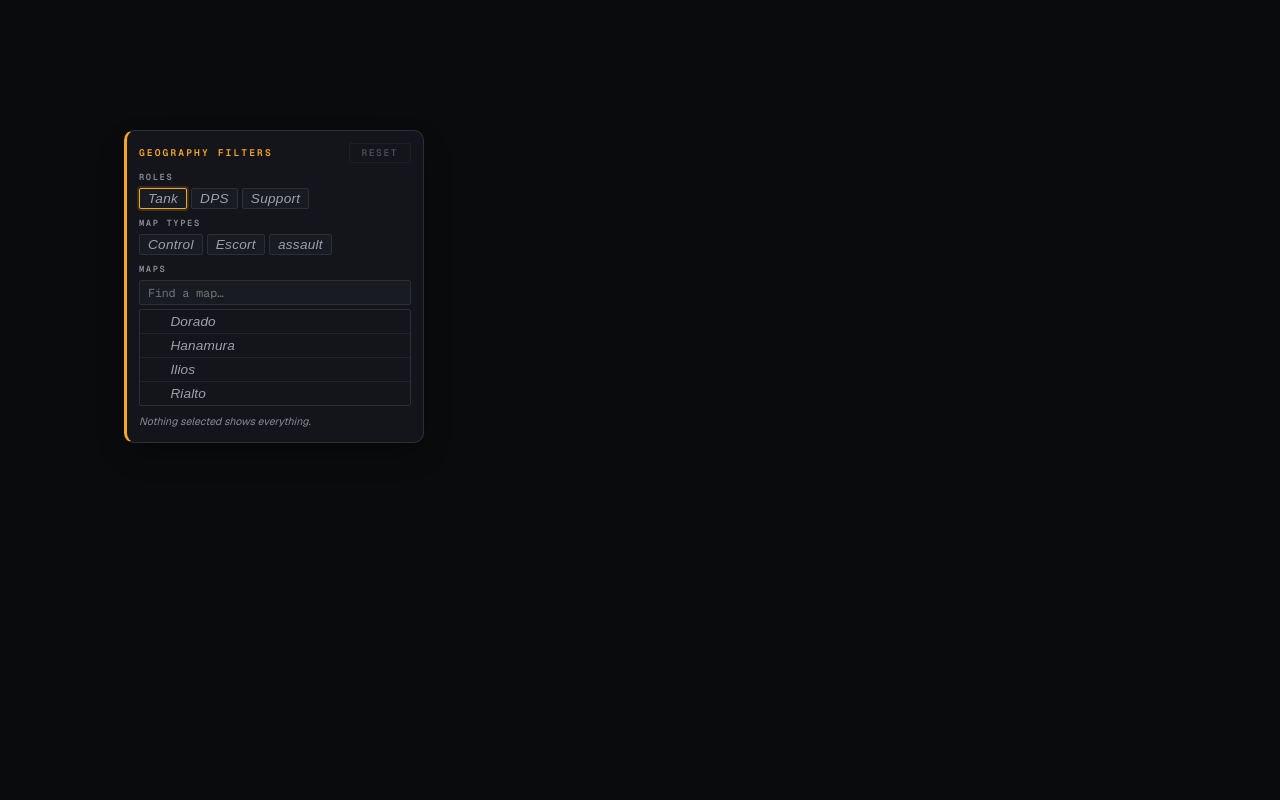
Test: MapRoleConfigPopover › keeps Reset disabled at default and clears all three groups when used
Expected: the button "Reset" is disabled, [348,143,411,163]
Click the button "Tank".
click(163, 198)  # box [139,188,187,209]
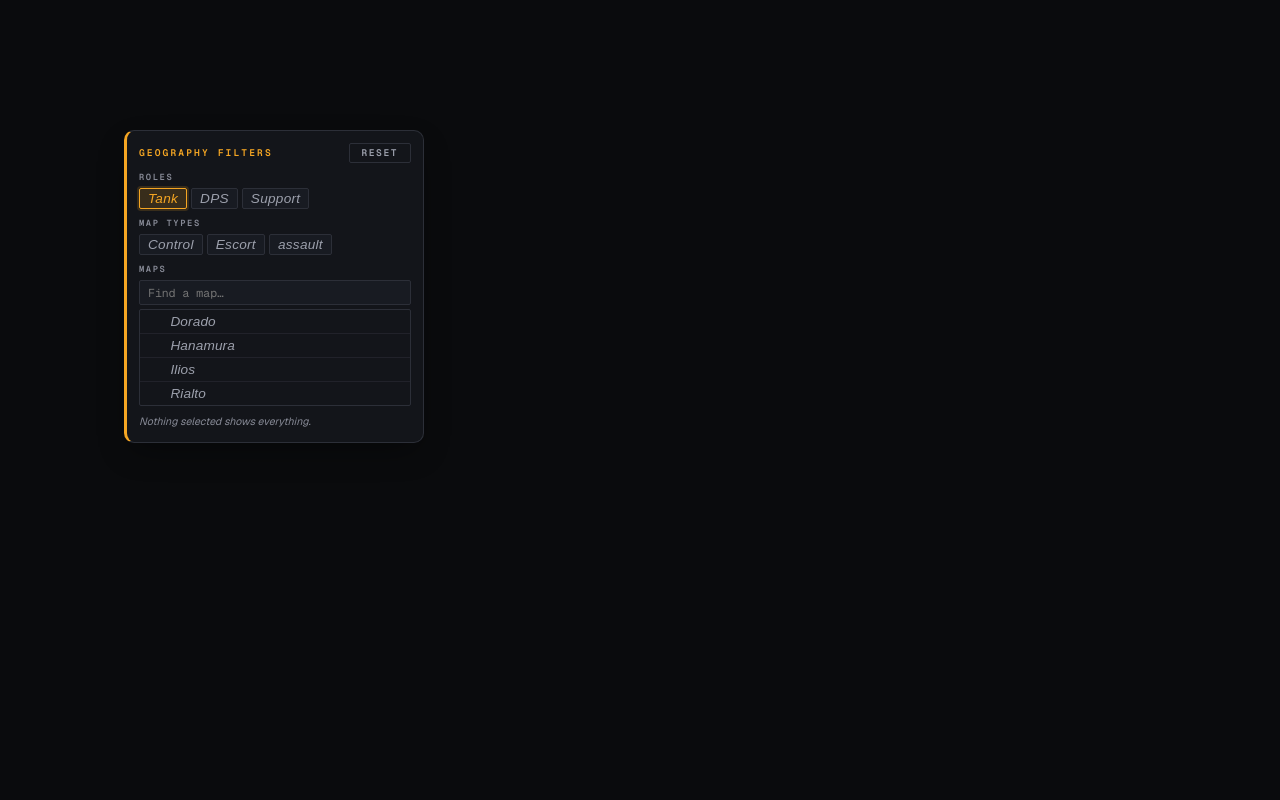
Click the button "Control".
click(171, 244)  # box [139,234,203,255]
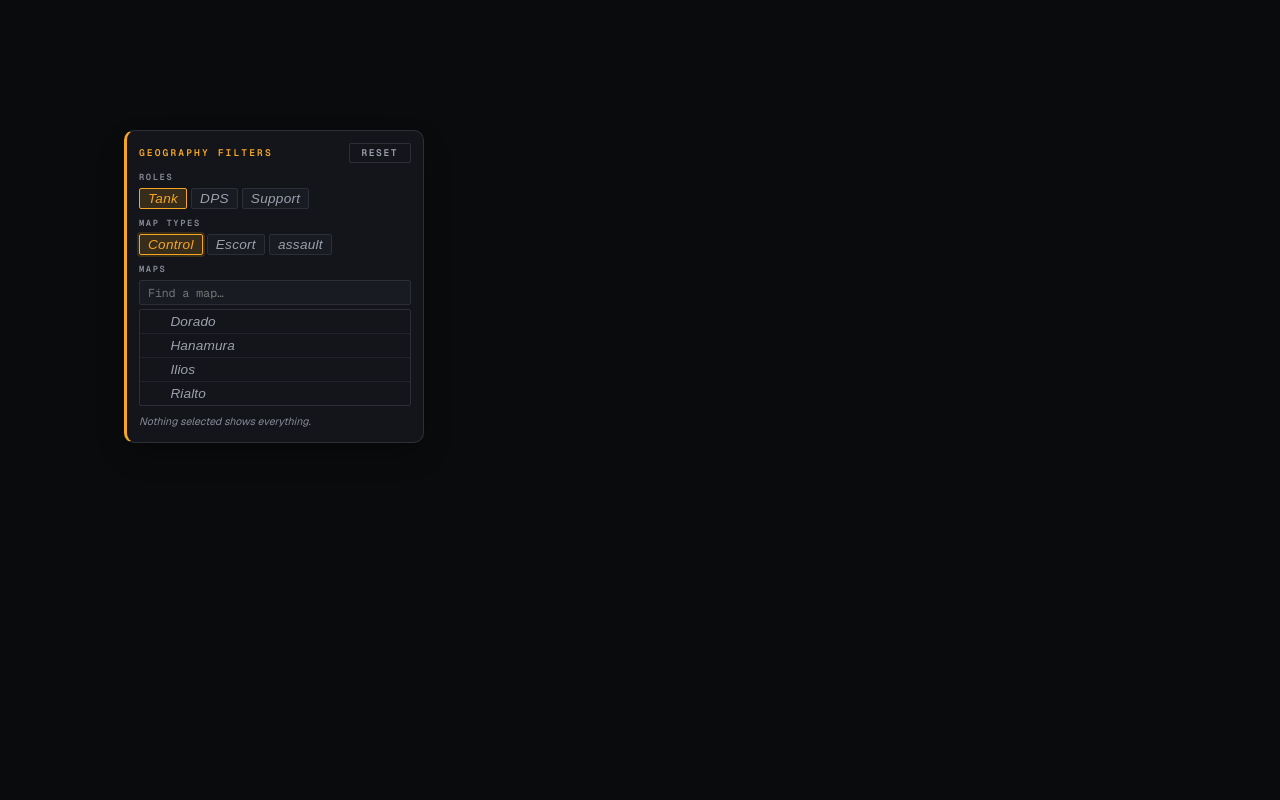
Click the option "Ilios".
click(183, 370)  # box [140,358,410,382]
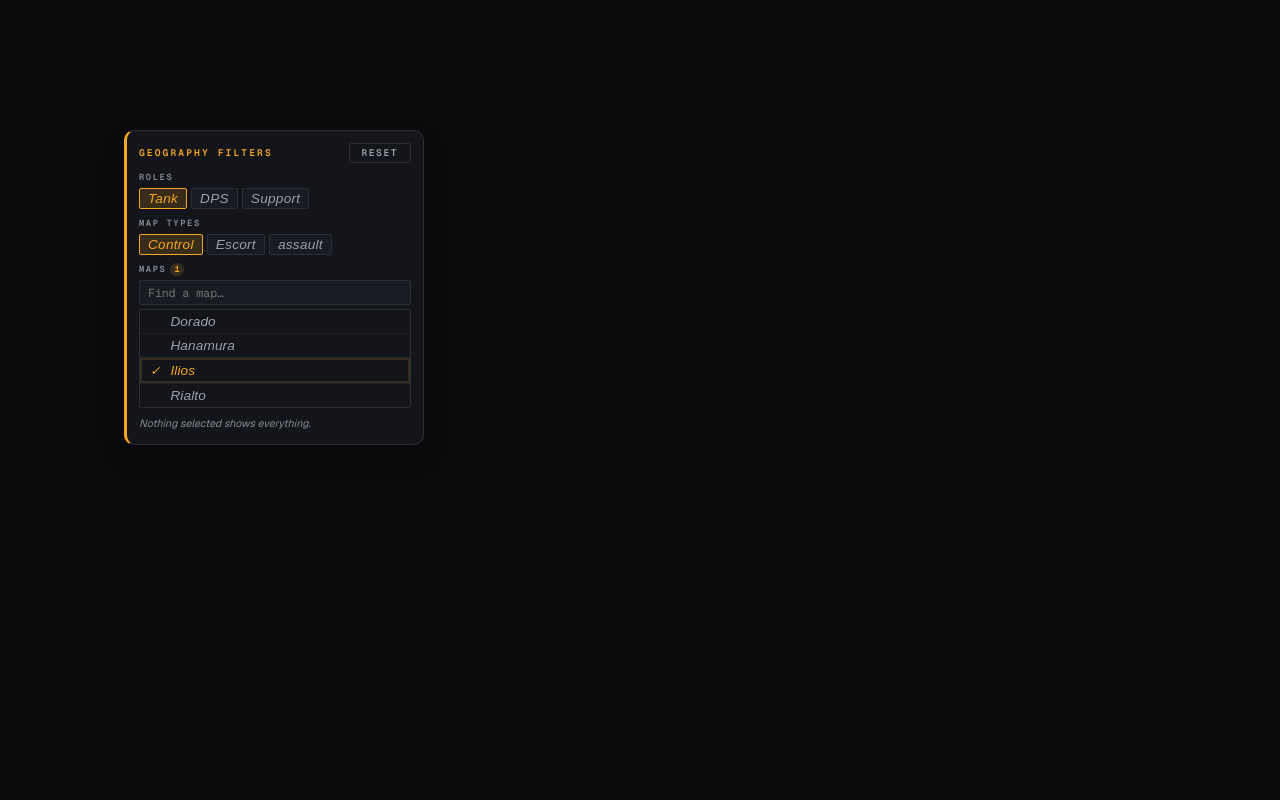
Expected: the button "Reset" is enabled
Click the button "Reset".
click(380, 153)  # box [348,143,411,163]
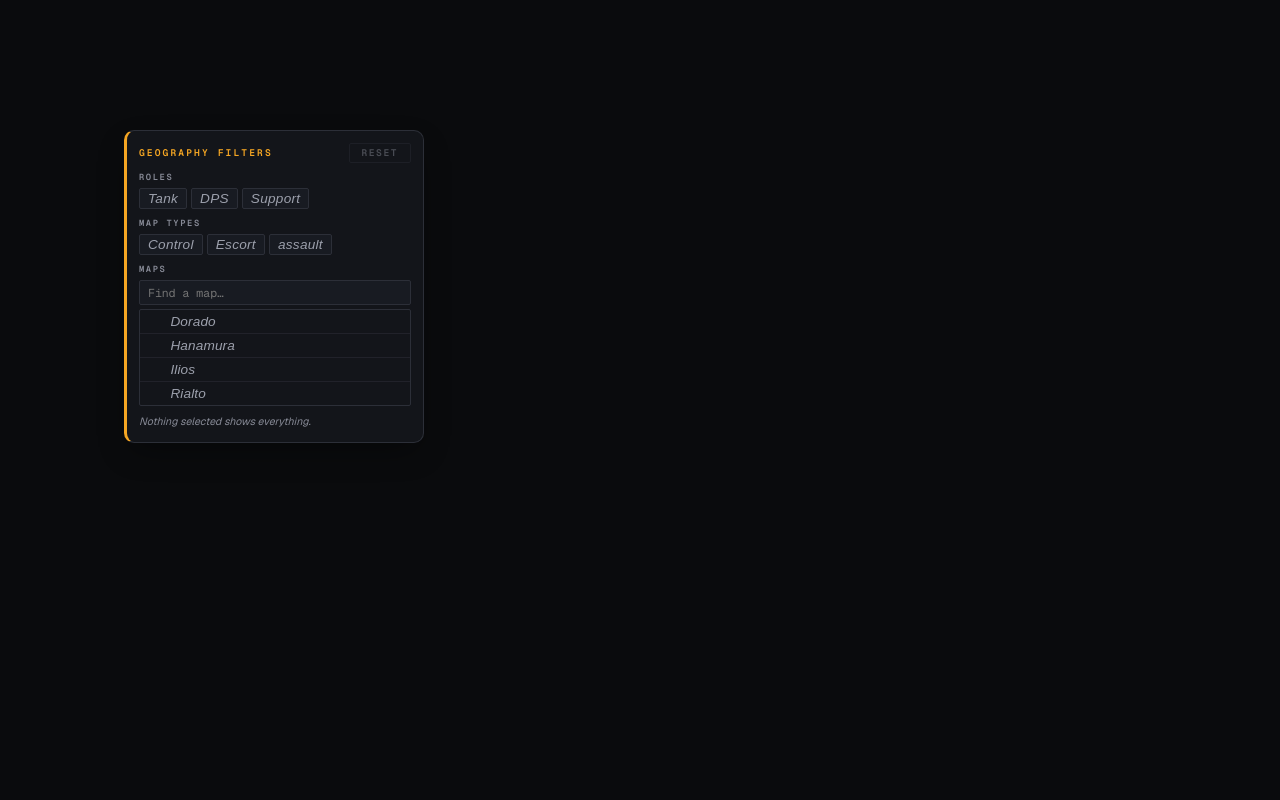
Expected: the button "Reset" is disabled, [348,143,411,163]
